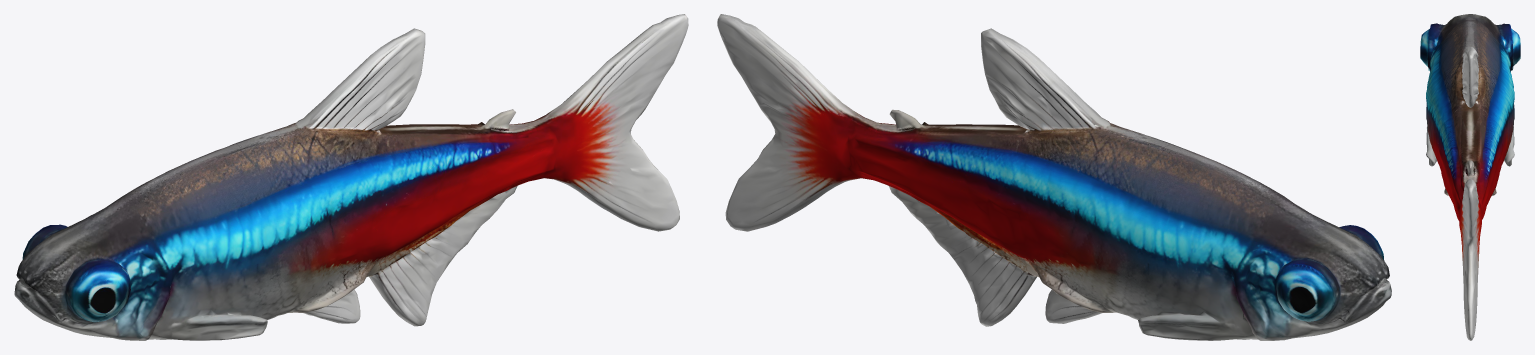
File: fish01.glb
The picture shows the model from 3 angles, left to right: view 1: azimuth 30°, elevation 25°; view 2: azimuth 150°, elevation 25°; view 3: azimuth 270°, elevation 25°; orthographic projection. The views are drawn at different scales.
Visible parts, largest first — view 1: tripo_node_0ee7d7c8-97cb-4e78-bc11-da72002df26d; view 2: tripo_node_0ee7d7c8-97cb-4e78-bc11-da72002df26d; view 3: tripo_node_0ee7d7c8-97cb-4e78-bc11-da72002df26d.
Boxes of the visible parts, x1=… form: tripo_node_0ee7d7c8-97cb-4e78-bc11-da72002df26d: x1=14, y1=14, x2=688, y2=340; tripo_node_0ee7d7c8-97cb-4e78-bc11-da72002df26d: x1=717, y1=14, x2=1391, y2=340; tripo_node_0ee7d7c8-97cb-4e78-bc11-da72002df26d: x1=1420, y1=14, x2=1520, y2=340.
Size of the model in its own units: 1 by 0.4241 by 0.173.
1 material, 1 textured.
